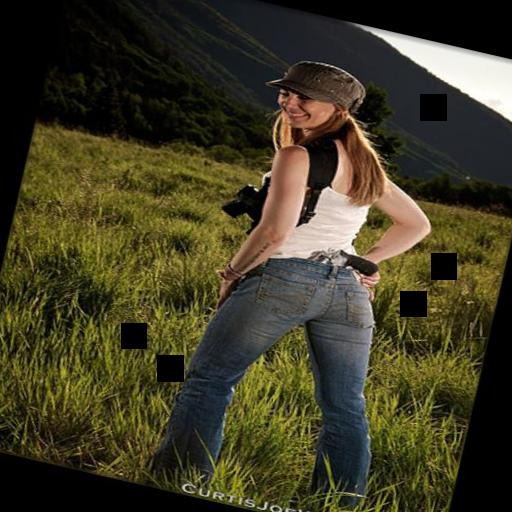Handgun: (293, 237, 380, 280), (216, 174, 272, 226)
